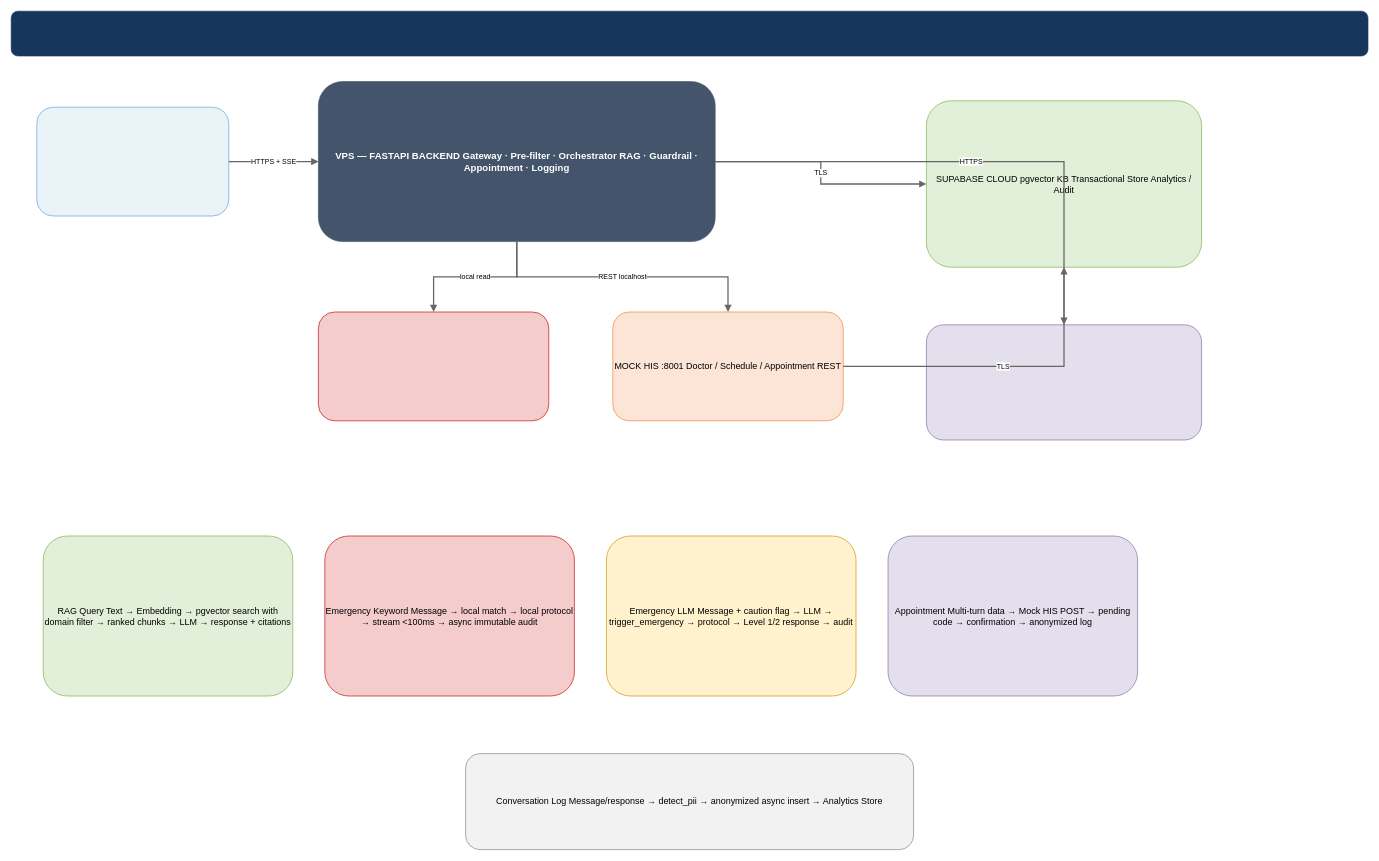
This 1379x861 diagram has some shape labels left out. Here are the shapes that lost their labels. From the top down, the centre of each, then its label:
At point (689, 33): "INTEGRATION & DATA FLOW".
At point (132, 161): "USER BROWSER Widget / Page HTTPS + SSE".
At point (433, 366): "LOCAL CONFIG Emergency keywords Emergency protocols System prompts".
At point (1064, 382): "EXTERNAL AI APIS Gemini LLM + Embedding OpenRouter · Grok".
